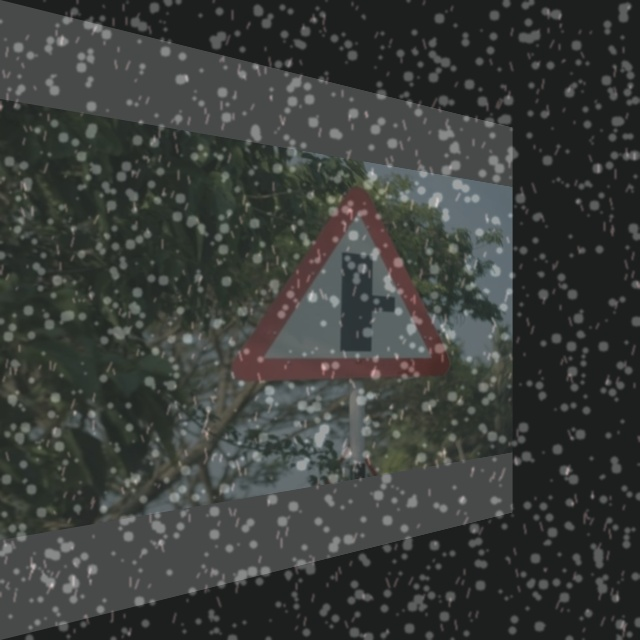Side_Road_Right: (247, 175, 447, 389)
